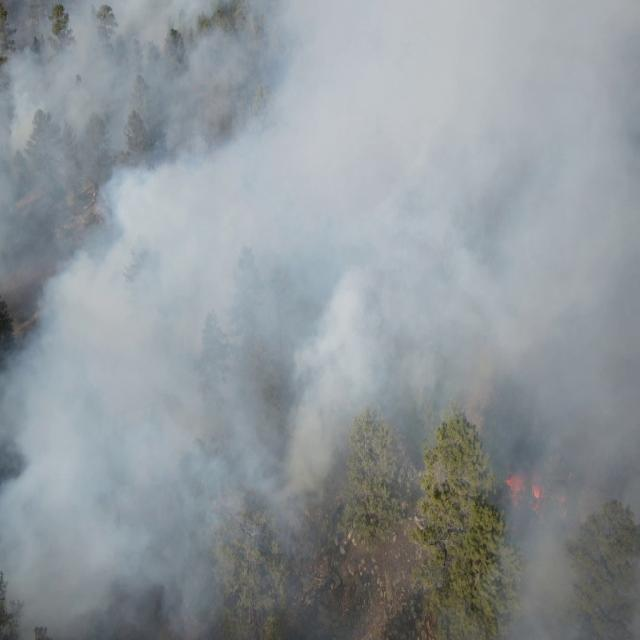fire: (506, 467, 544, 508), (551, 487, 571, 525)
smoke: (0, 0, 336, 640), (336, 0, 638, 461), (499, 461, 640, 640)
